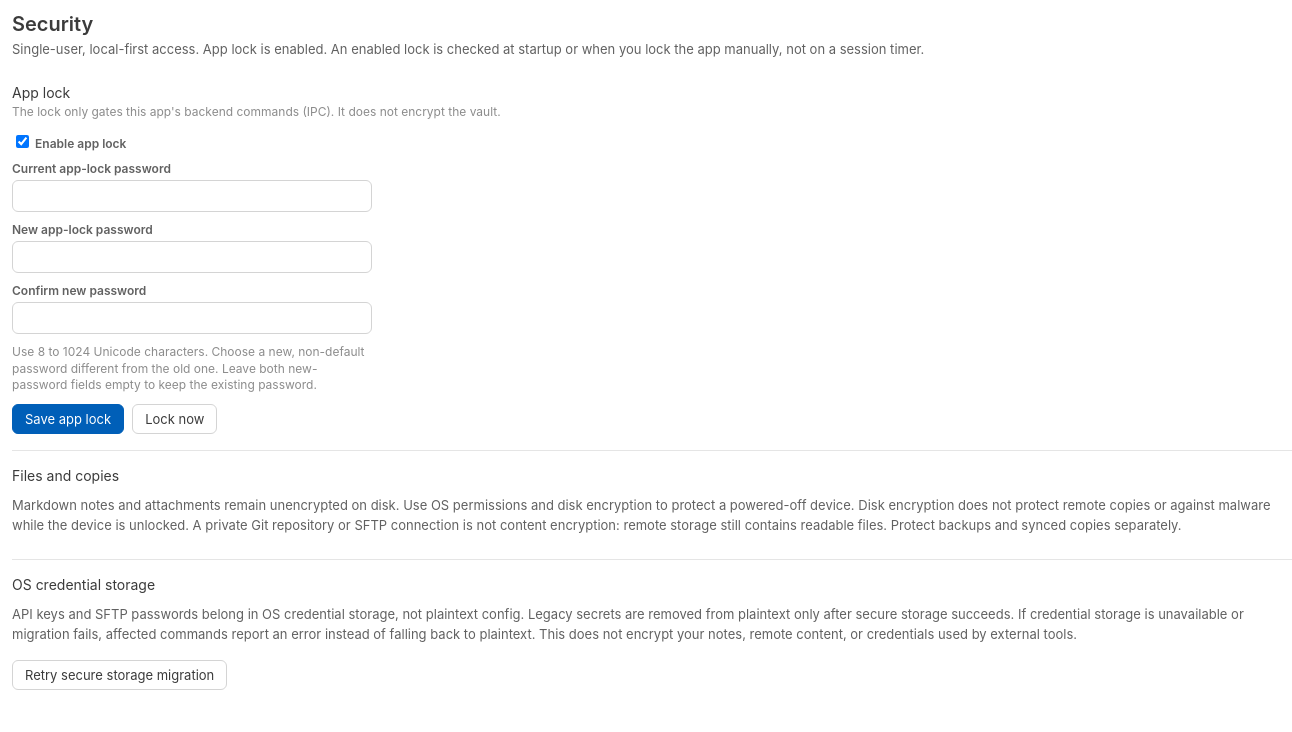
Test: Security app lock › requires the current password to disable the lock
Click the checkbox labelled "Enable app lock" at coordinates (22, 141), box [16,135,29,148]
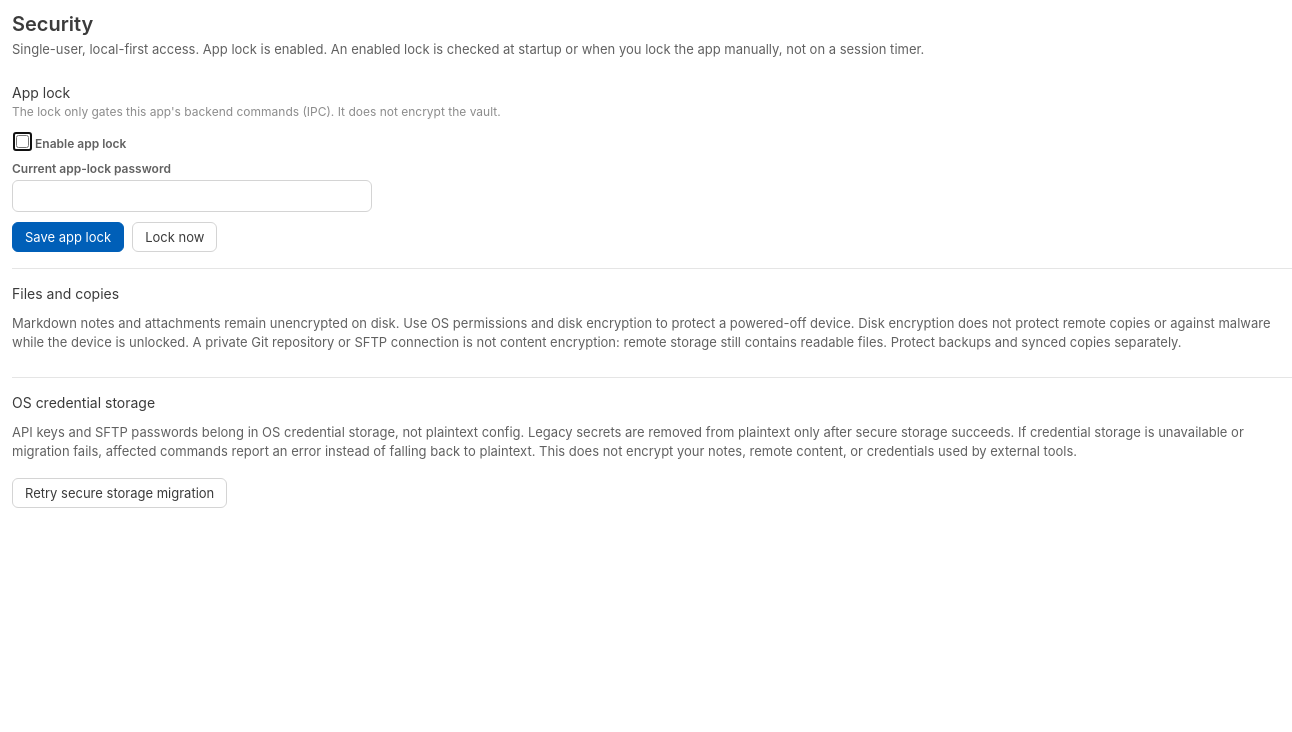
Click the button "Save app lock" at coordinates (68, 237), box [12,222,124,252]
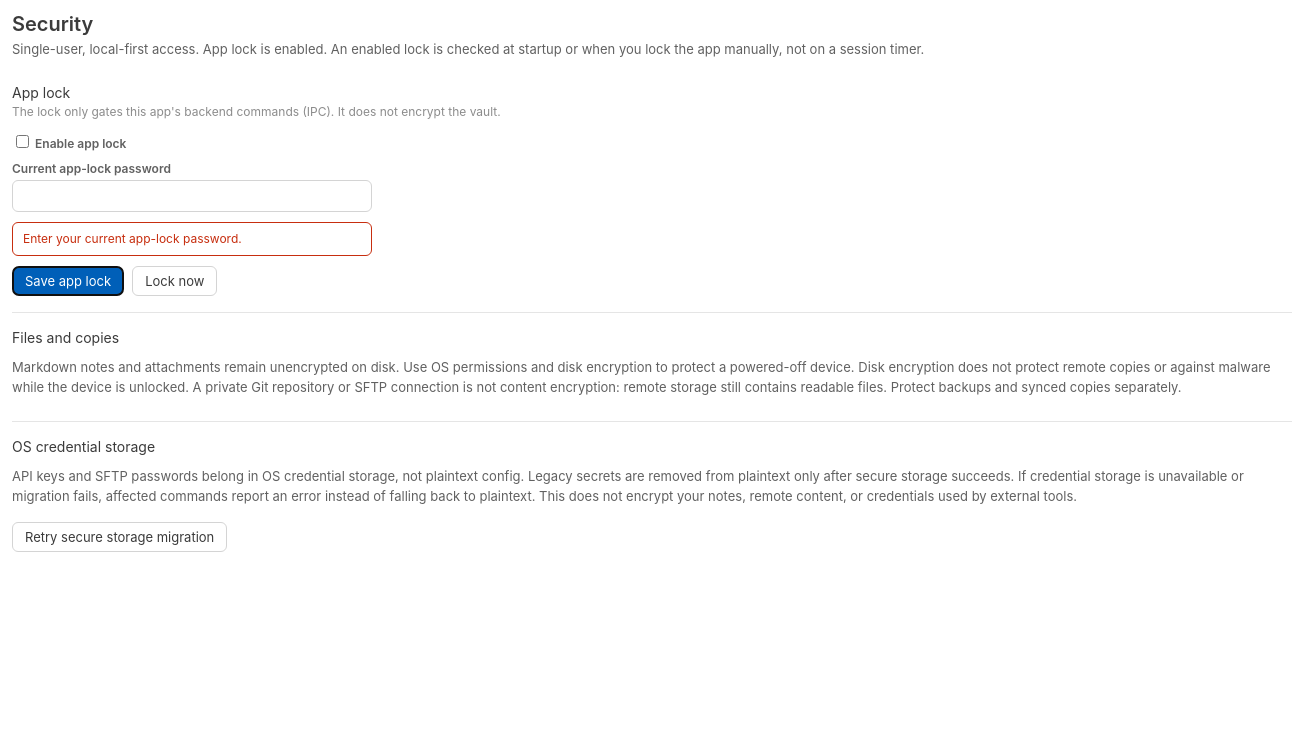
Result: the message shows "current app-lock password" at [23,231,242,246]
Type "existing-password" into the password field labelled "Current app-lock password" at coordinates (192, 196), box [12,180,372,212]
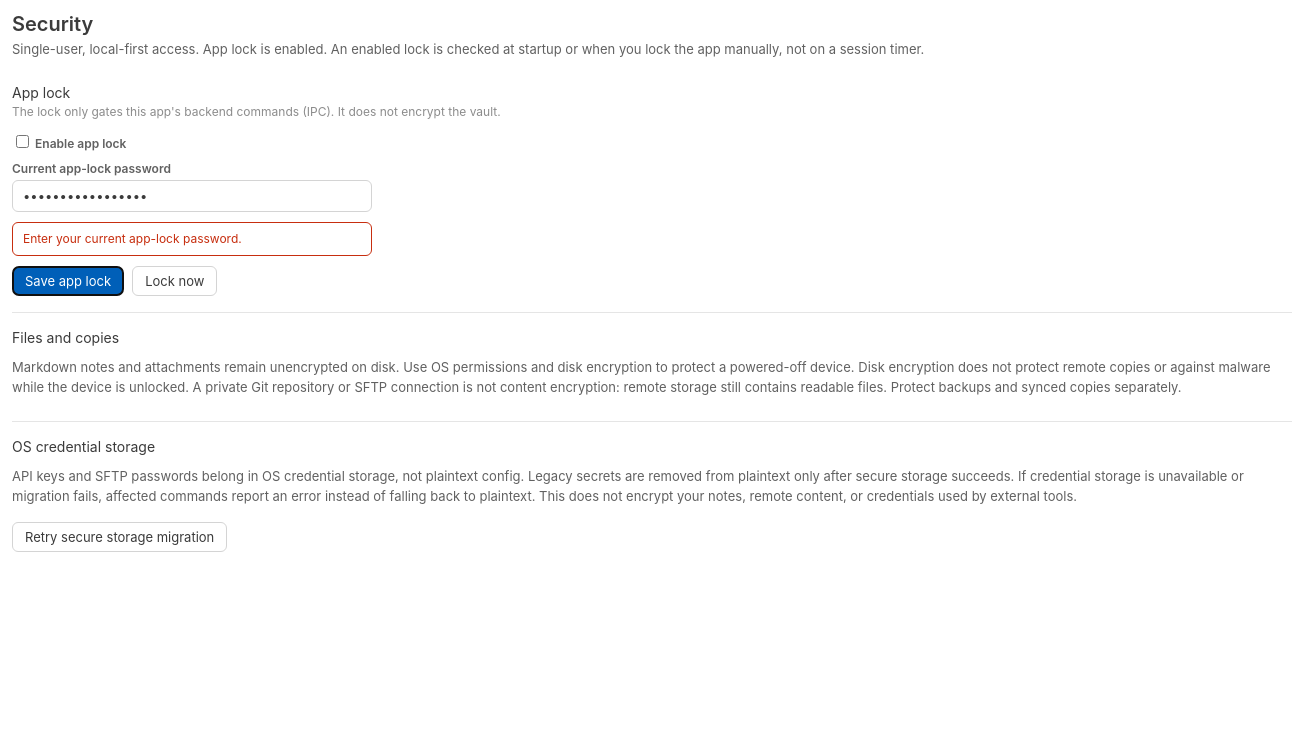
Click the button "Save app lock" at coordinates (68, 281), box [12,266,124,296]
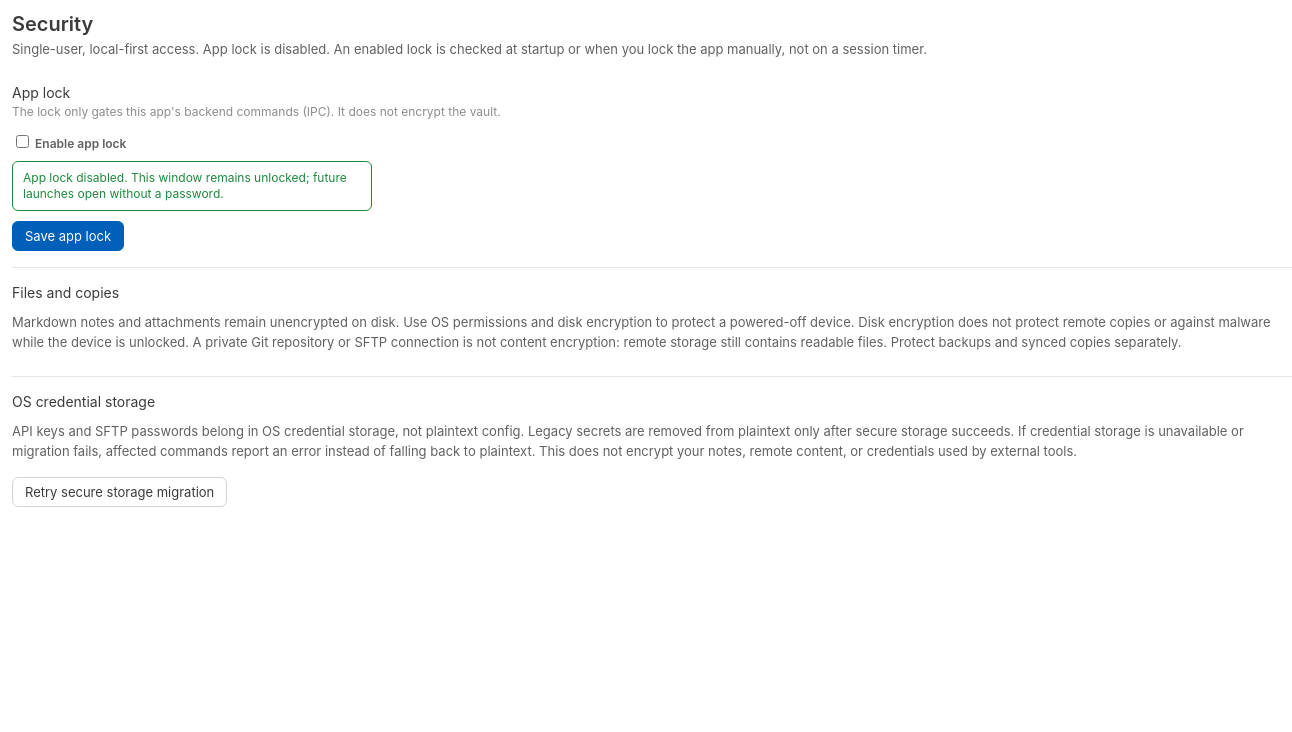
Result: the message shows "future launches open without a password" at [23,170,347,201]
Result: the button "Lock now" is gone
